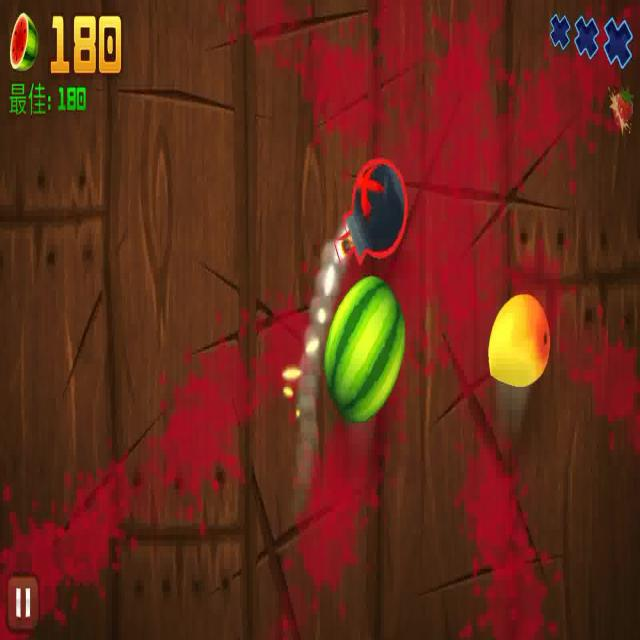bomb: (334, 143, 410, 265)
fruit: (324, 271, 408, 426), (488, 294, 550, 392)
